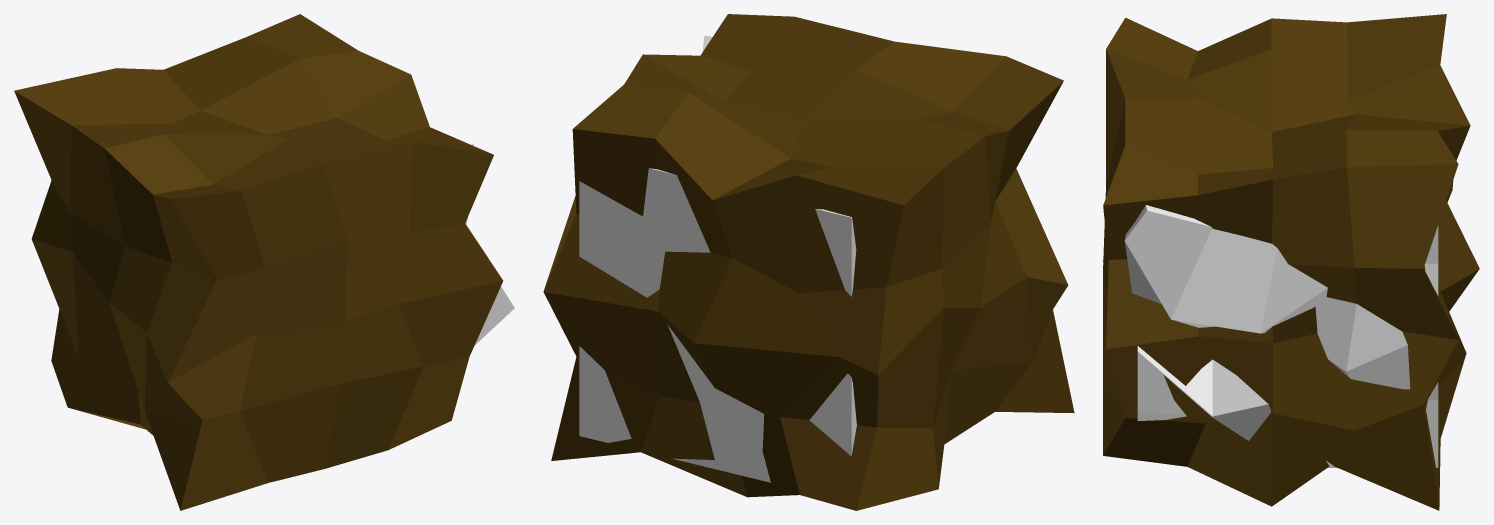
File: HellRock1.fbx
The picture shows the model from 3 angles, left to right: view 1: azimuth 30°, elevation 25°; view 2: azimuth 150°, elevation 25°; view 3: azimuth 270°, elevation 25°; orthographic projection. The views are drawn at different scales.
Visible parts, largest first — view 1: Cube.001, Cube.002; view 2: Cube.001, Cube.002; view 3: Cube.001, Cube.002.
Boxes of the visible parts, x1=… form: Cube.001: x1=14, y1=14, x2=503, y2=510; Cube.002: x1=465, y1=144, x2=514, y2=345; Cube.001: x1=543, y1=14, x2=1074, y2=510; Cube.002: x1=579, y1=35, x2=856, y2=482; Cube.001: x1=1103, y1=14, x2=1479, y2=510; Cube.002: x1=1124, y1=205, x2=1438, y2=467.
Bounding box in the file's own units: 292 × 249 × 251.
